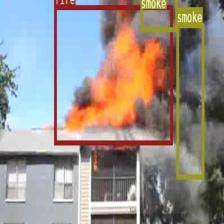fire: (54, 4, 172, 144)
smoke: (176, 22, 203, 178), (140, 0, 178, 31)
